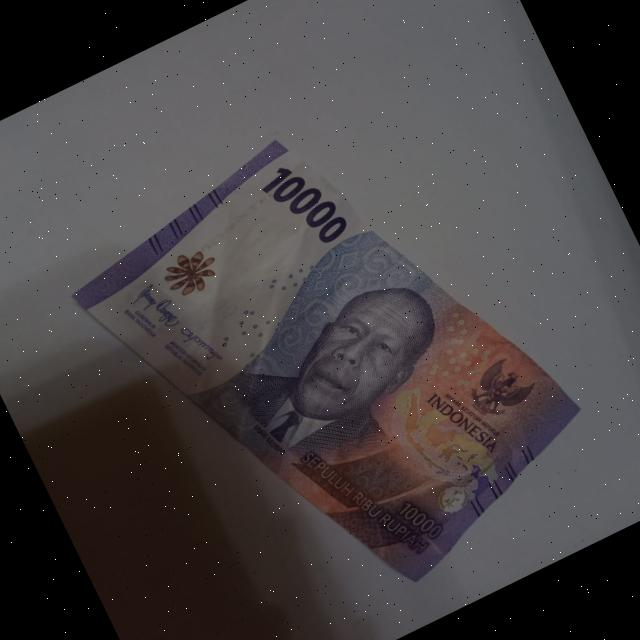10K: (34, 55, 635, 640)
